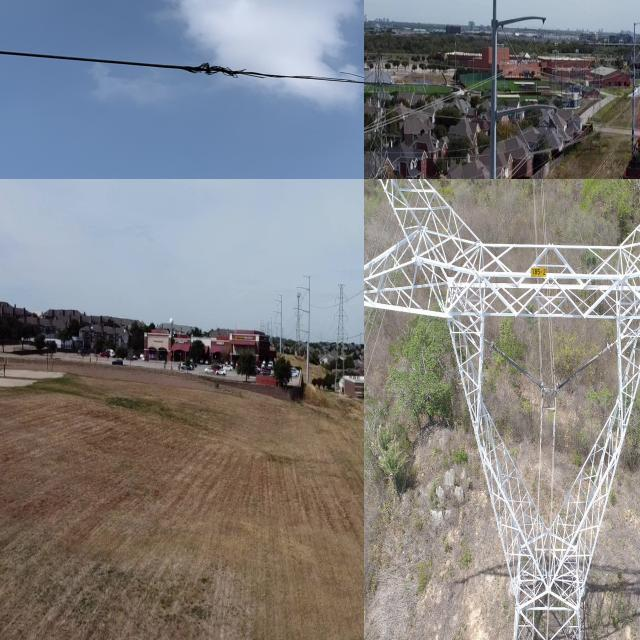杆塔: (364, 179, 640, 640), (364, 36, 406, 179), (332, 281, 351, 404)
正常绝缘子: (489, 339, 545, 392), (555, 341, 613, 392), (526, 121, 552, 157), (515, 33, 539, 71), (513, 115, 534, 155), (503, 28, 522, 68)
电缆破损: (80, 13, 364, 102)
